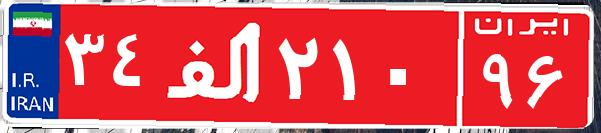0: (385, 28, 445, 110)
1: (330, 28, 385, 110)
2: (273, 28, 330, 110)
3: (57, 26, 110, 107)
4: (110, 28, 158, 105)
6: (525, 38, 570, 115)
9: (475, 38, 525, 113)
الف: (158, 15, 273, 115)
